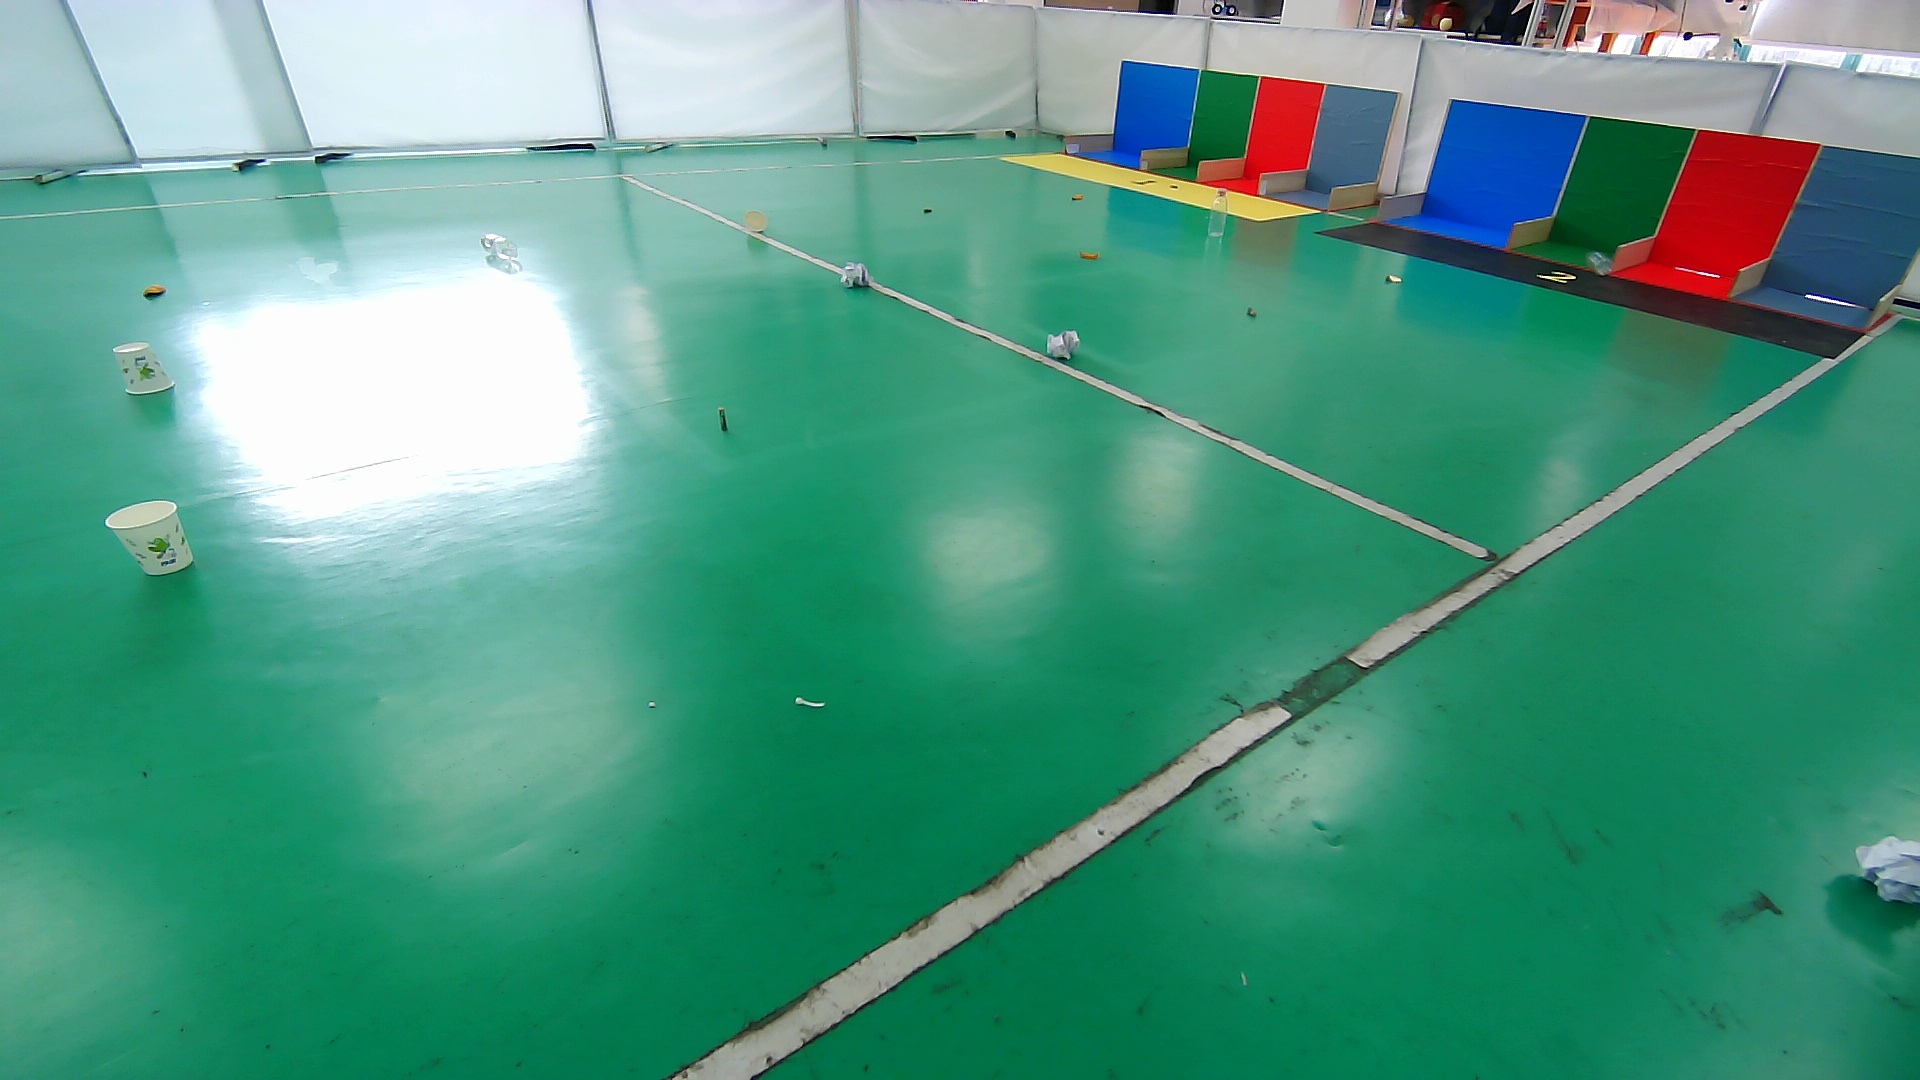battery: (708, 401, 736, 438), (1238, 301, 1269, 324), (916, 200, 940, 218)
bottle: (476, 231, 524, 266), (1203, 186, 1232, 241)
orangepeel: (135, 281, 173, 305), (1073, 244, 1106, 269), (1378, 266, 1411, 291), (1065, 186, 1089, 204)
papercup: (99, 488, 199, 583), (112, 342, 179, 398), (738, 207, 771, 236)
spitball: (1851, 828, 1920, 913), (1042, 328, 1083, 363), (836, 258, 870, 291)
